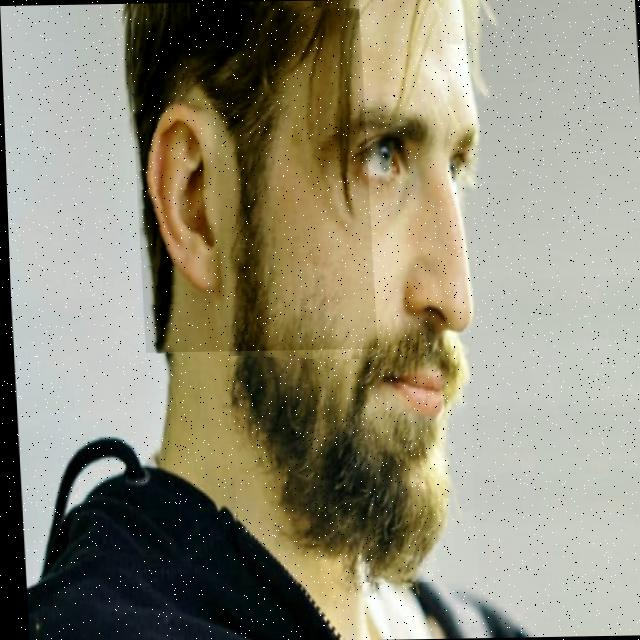beard: (228, 245, 464, 582)
hair: (131, 2, 359, 352)
